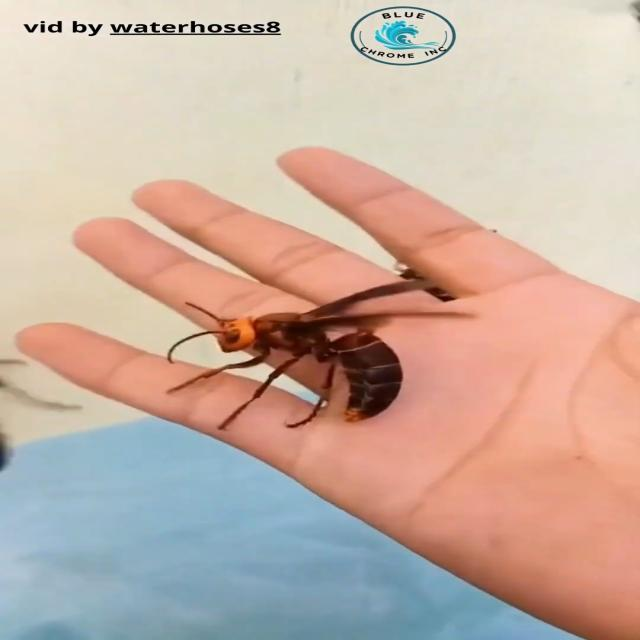Hornets: (162, 278, 474, 432)
